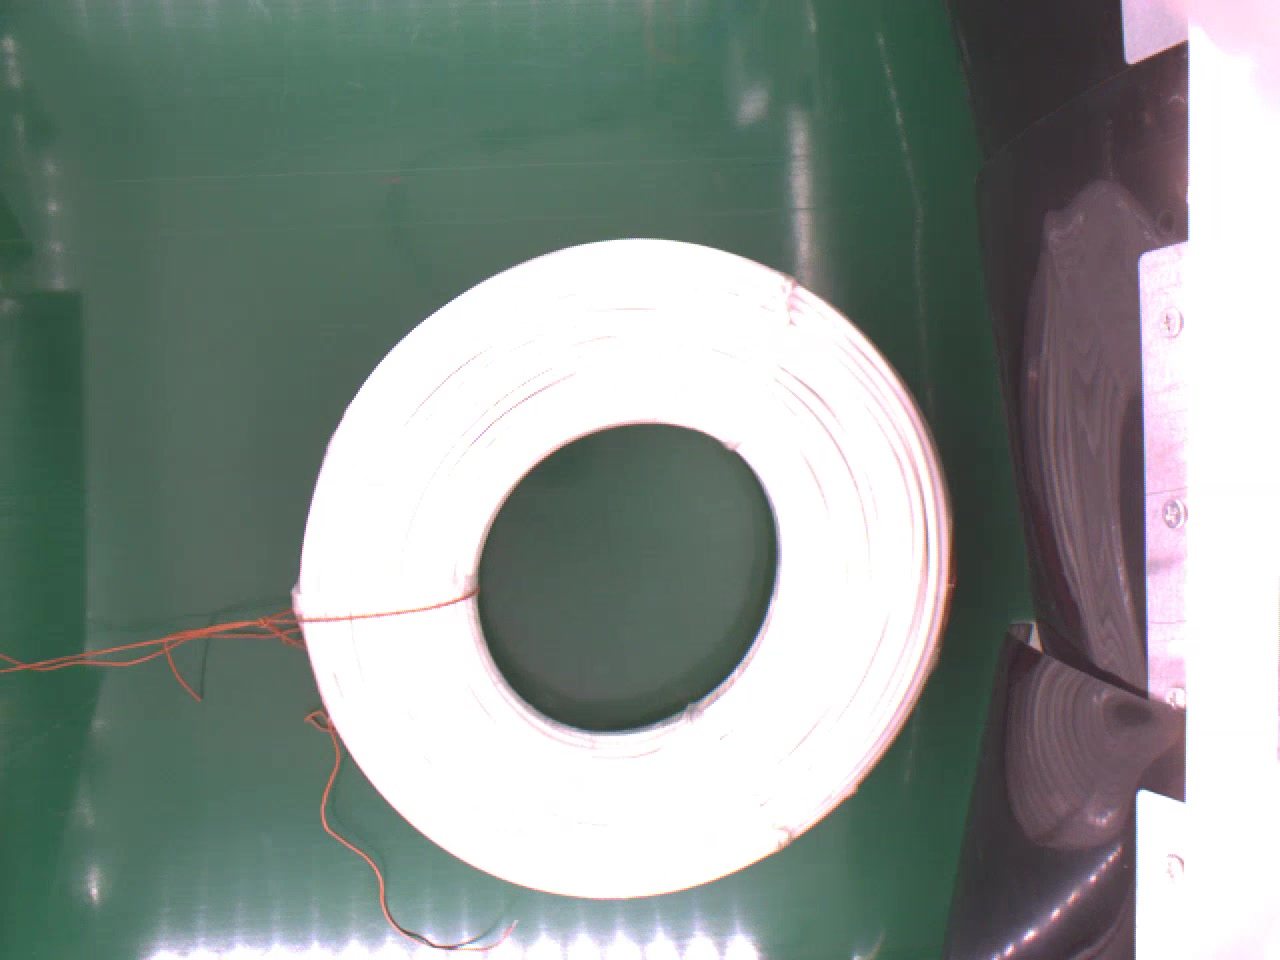white: (289, 229, 967, 899)
